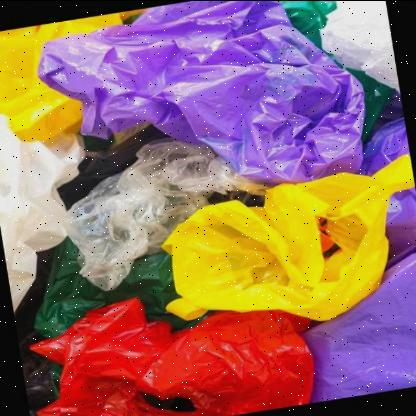Others: (37, 0, 362, 180), (156, 154, 416, 320), (30, 304, 314, 416), (68, 143, 270, 287)
